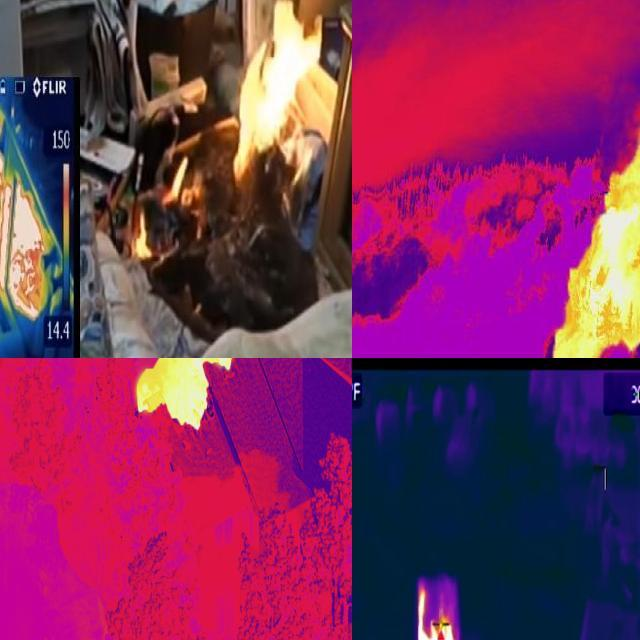fire: (541, 26, 640, 359), (1, 140, 63, 323), (126, 359, 241, 452), (418, 582, 460, 640)
